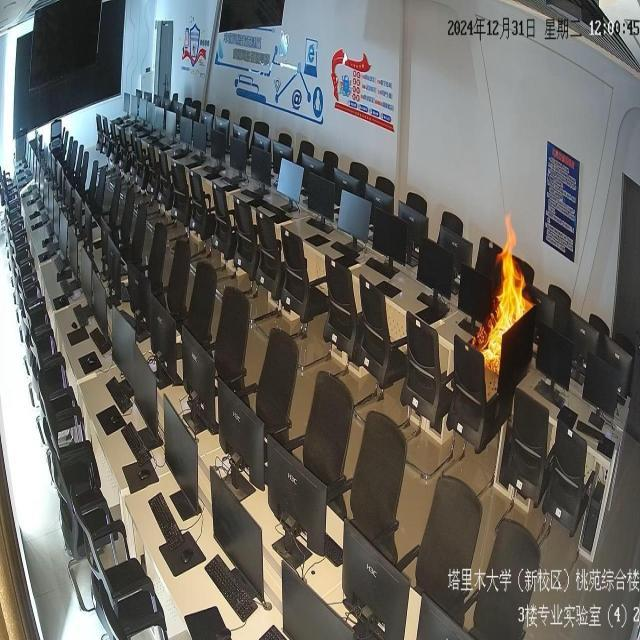smoke: (472, 214, 528, 372)
